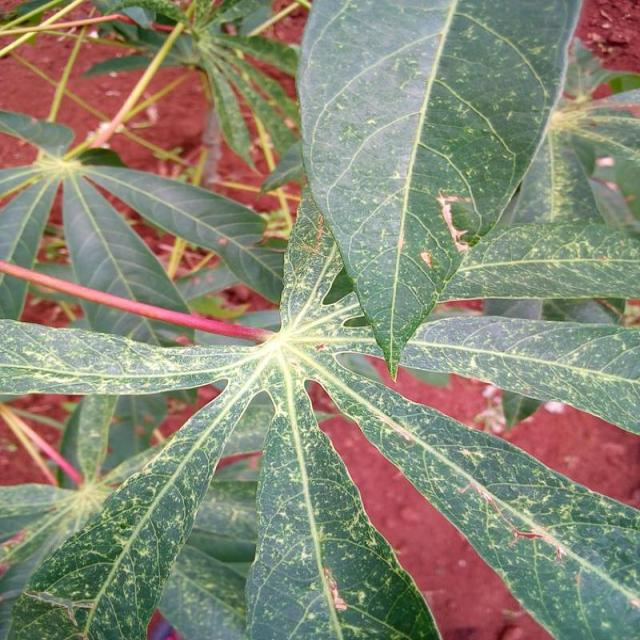cassava leaf: (2, 1, 640, 638), (295, 0, 585, 380)
